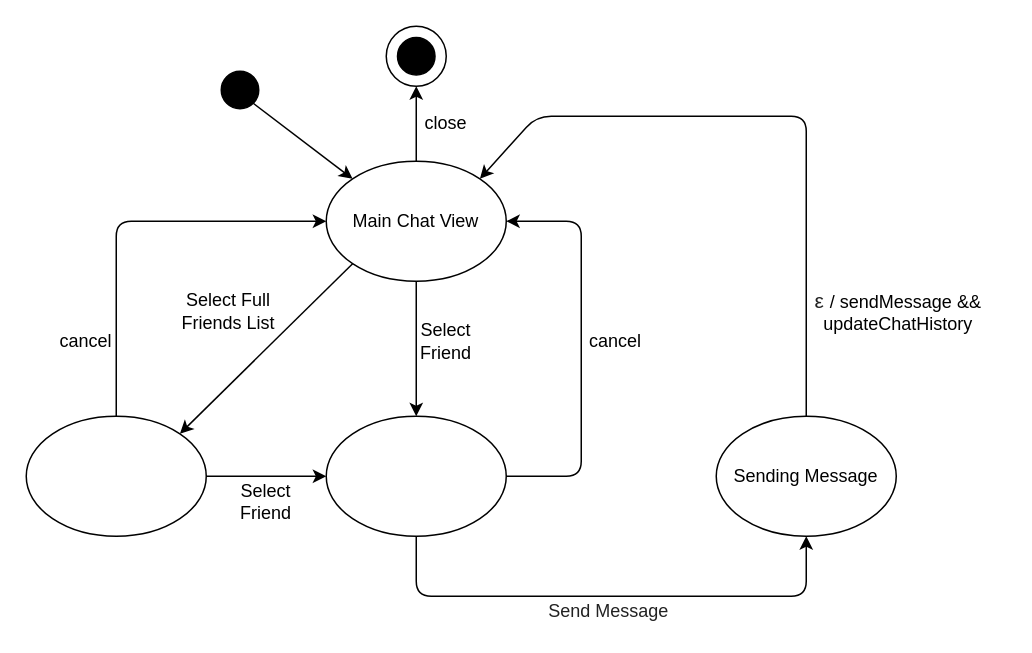
This 1032x653 diagram has some shape labels left out. Each missing label, with the box of its shape:
View Chat History: (325, 415, 506, 536)
View Full Friends List: (25, 415, 206, 536)
